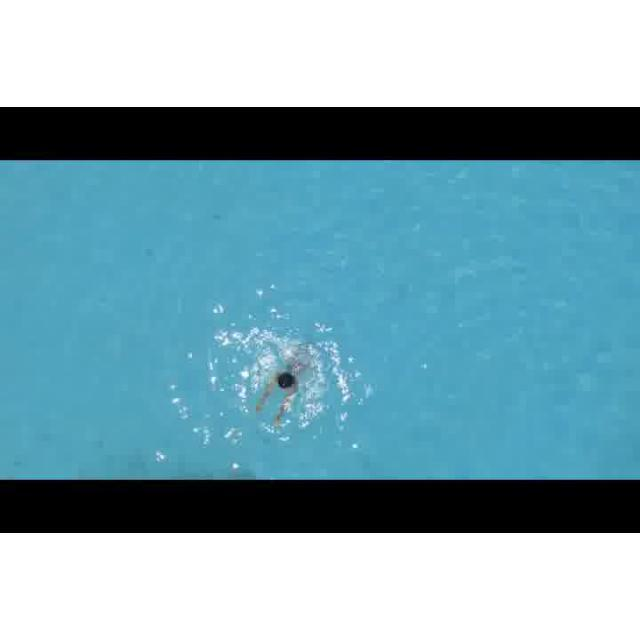human: (255, 357, 313, 423)
